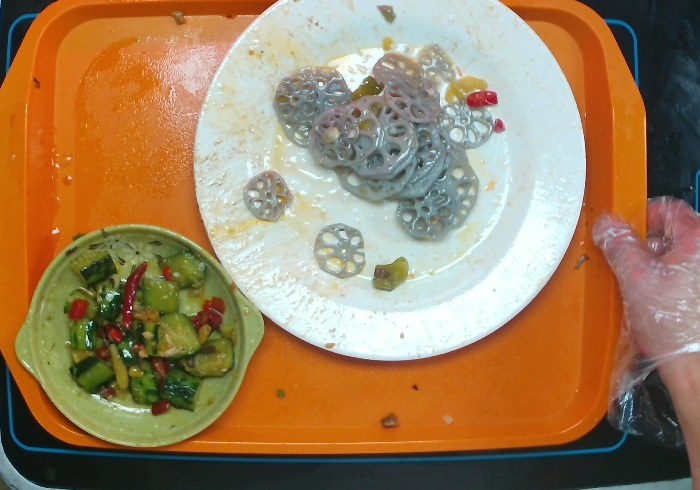NLDX-Da_Yuan_Pan: (195, 1, 588, 365)
NLDX-Lv_Hua_Shuang_Er_Die: (16, 225, 265, 448)
